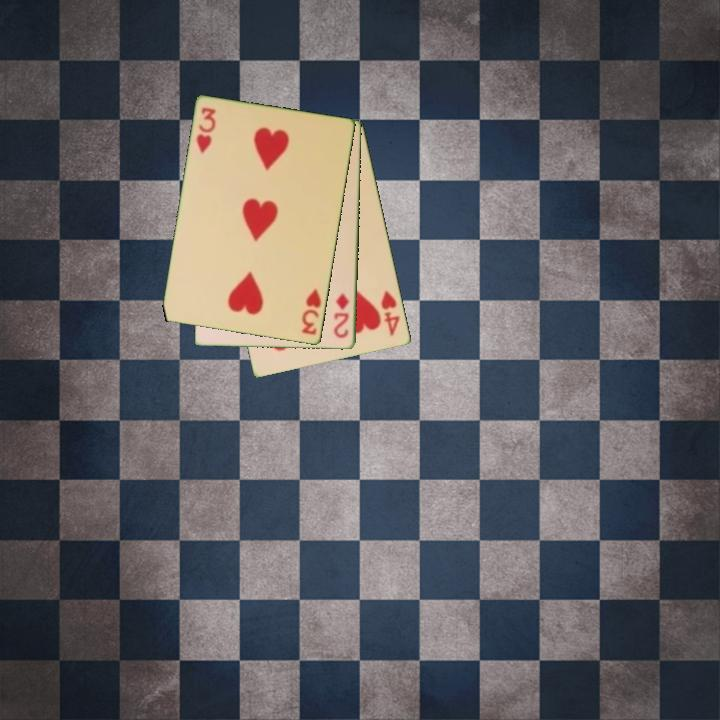2d: (331, 290, 352, 341)
3h: (193, 104, 219, 157), (299, 286, 324, 338)
4h: (378, 287, 403, 339)
